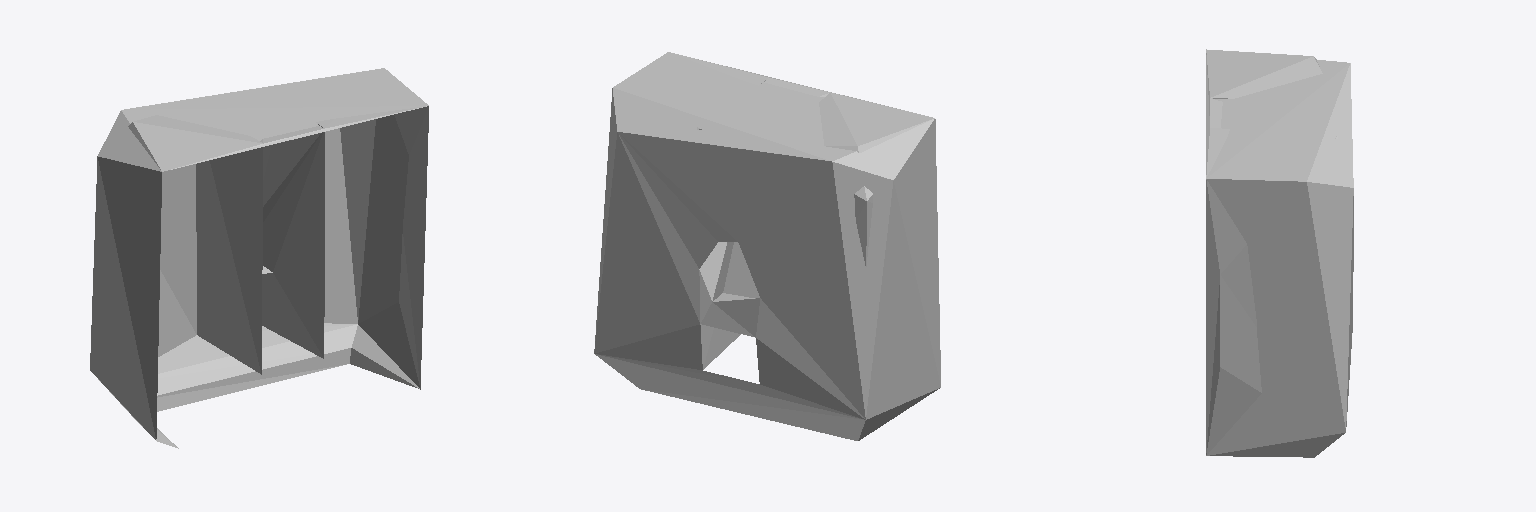
File: part_7_simplified.obj
The picture shows the model from 3 angles: view 1: azimuth 30°, elevation 25°; view 2: azimuth 150°, elevation 25°; view 3: azimuth 270°, elevation 25°; orthographic projection.
Visible parts, largest first — view 1: part_7_simplified; view 2: part_7_simplified; view 3: part_7_simplified.
Boxes of the visible parts, x1=… form: part_7_simplified: x1=90, y1=68, x2=428, y2=448; part_7_simplified: x1=594, y1=52, x2=940, y2=440; part_7_simplified: x1=1206, y1=49, x2=1353, y2=457.
Size of the model in its own units: 0.1282 by 0.1275 by 0.0577.